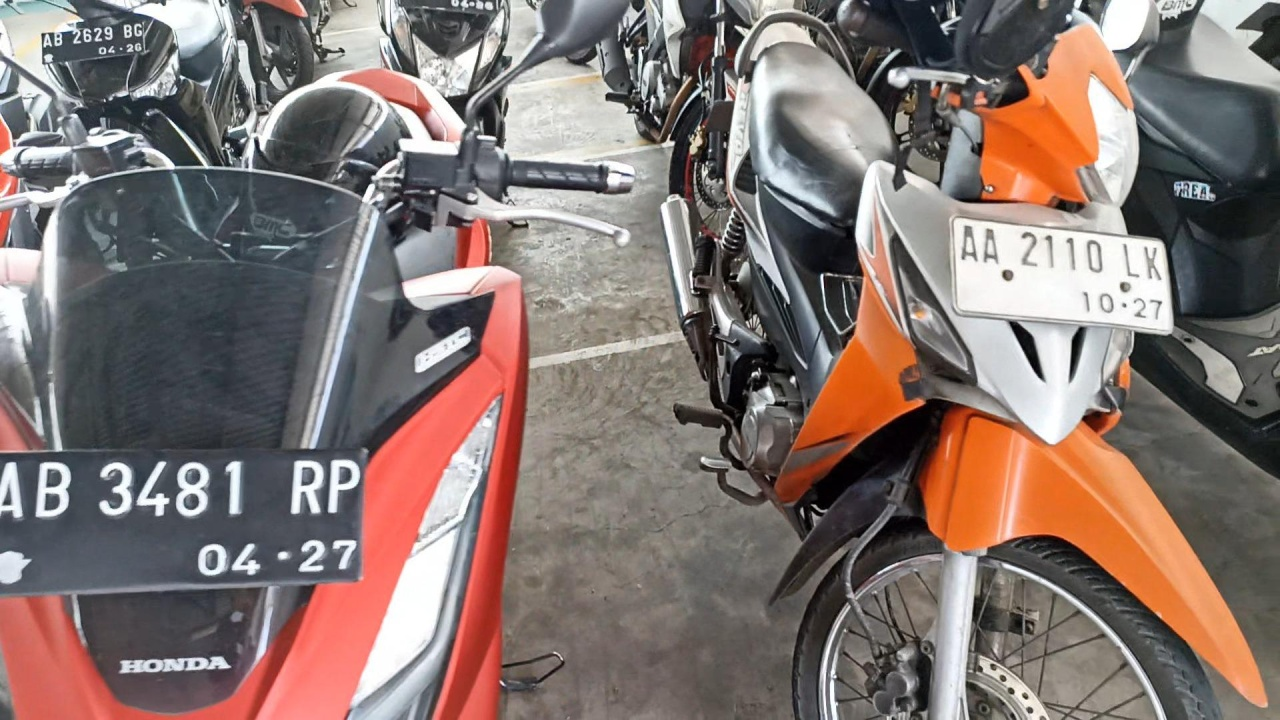plate: (0, 450, 365, 593), (954, 217, 1173, 332)
